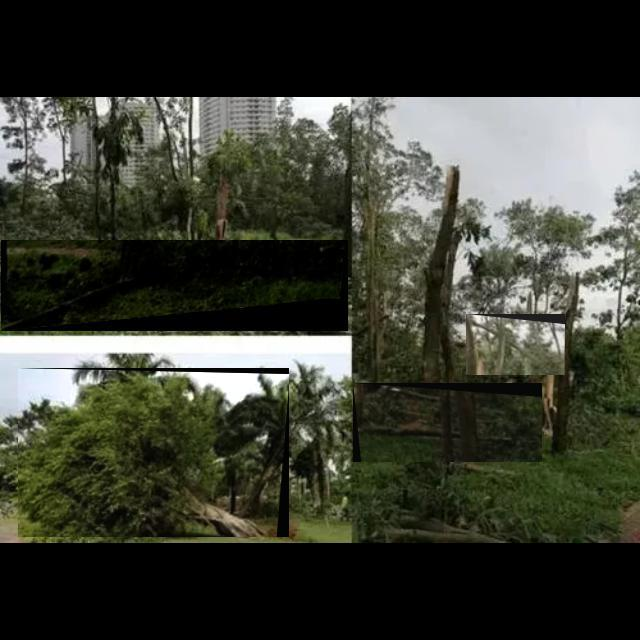fallen_tree: (18, 368, 290, 538), (1, 240, 349, 332), (353, 383, 543, 463), (466, 314, 566, 376)
